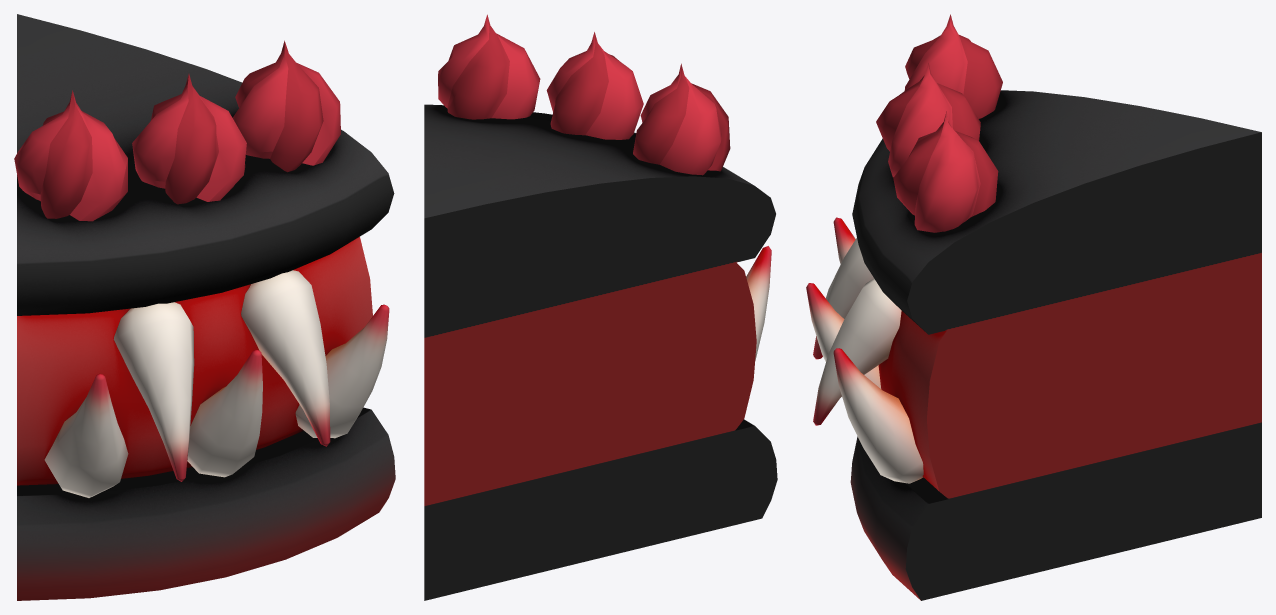
The model's file is cake_76.FBX.
3 renders of one model, left to right at view 1: azimuth 30°, elevation 25°; view 2: azimuth 150°, elevation 25°; view 3: azimuth 270°, elevation 25°, orthographic. The views are drawn at different scales.
Visible parts, largest first — view 1: cake_76; view 2: cake_76; view 3: cake_76.
Part boxes in pixels (<box>): cake_76: <box>14,14,395,600</box>; cake_76: <box>424,14,777,600</box>; cake_76: <box>806,14,1261,600</box>.
Bounding box in the file's own units: 5.14 × 6.25 × 5.69.
